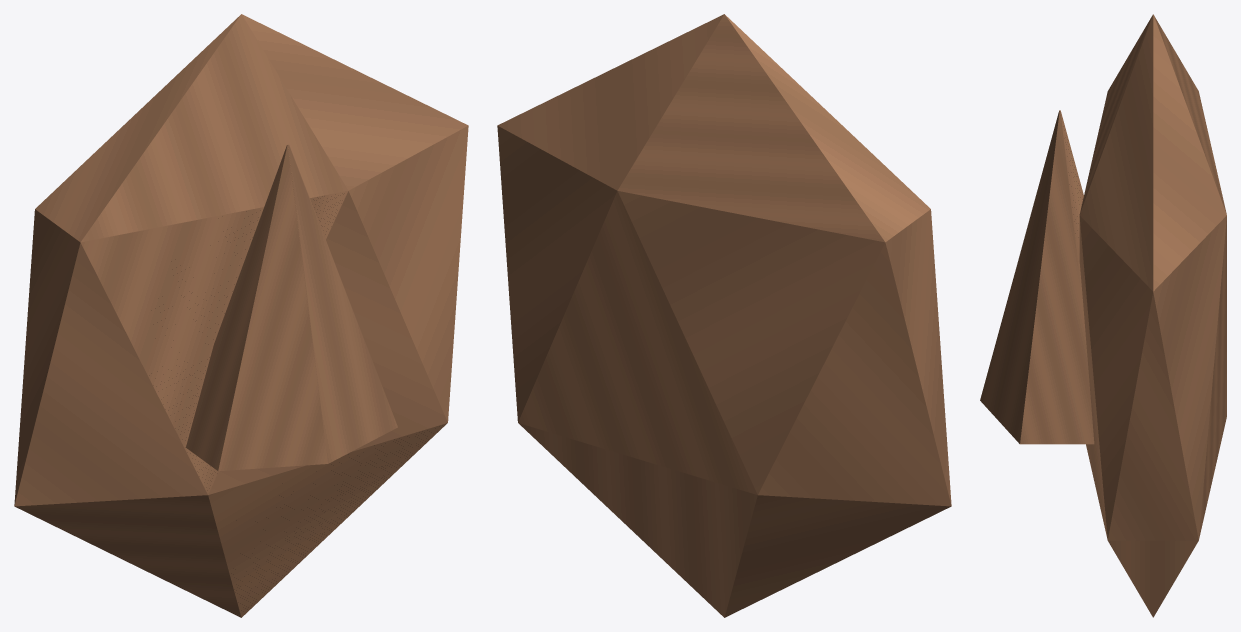
The model's file is rally.glb.
3 renders of one model, left to right at view 1: azimuth 30°, elevation 25°; view 2: azimuth 150°, elevation 25°; view 3: azimuth 270°, elevation 25°, orthographic.
Visible parts, largest first — view 1: gear_rally; view 2: gear_rally; view 3: gear_rally.
Part boxes in pixels (x1,y1,x2,y2): gear_rally: (14, 14, 468, 617); gear_rally: (497, 14, 951, 617); gear_rally: (980, 14, 1226, 617).
Size of the model in its own units: 0.3935 by 0.5 by 0.1853.
Materials: 1 (1 with a texture image).
